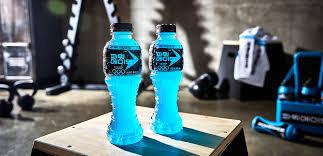powerade_mountainblast: (92, 22, 145, 148), (144, 20, 189, 138)
